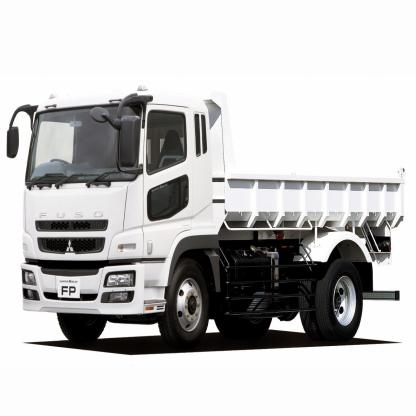truck: (5, 91, 404, 347)
